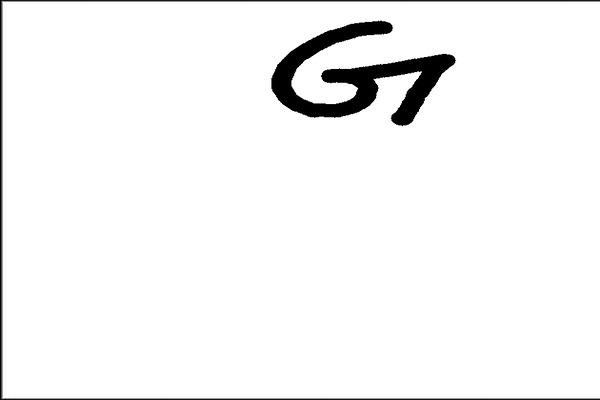G: (266, 16, 457, 132)
